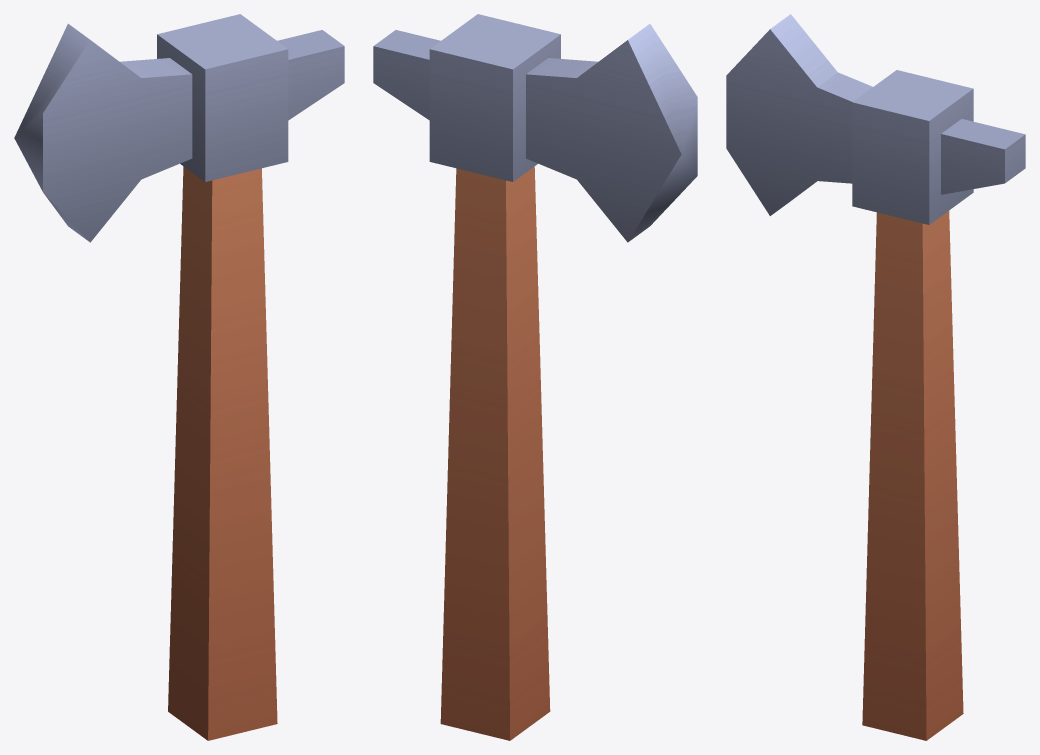
Rendered from cc0-tool-axe-lod1.glb.
3 views of the same model, side by side, from view 1: azimuth 30°, elevation 25°; view 2: azimuth 150°, elevation 25°; view 3: azimuth 330°, elevation 25° (orthographic). The views are drawn at different scales.
Visible parts, largest first — view 1: part_0; view 2: part_0; view 3: part_0.
Part boxes in pixels (box(x1,y1,x2,y2)): part_0: box(14, 14, 344, 740); part_0: box(373, 14, 697, 740); part_0: box(726, 14, 1025, 740).
Size of the model in its own units: 0.1145 by 0.256 by 0.0309.
1 material, 1 textured.
